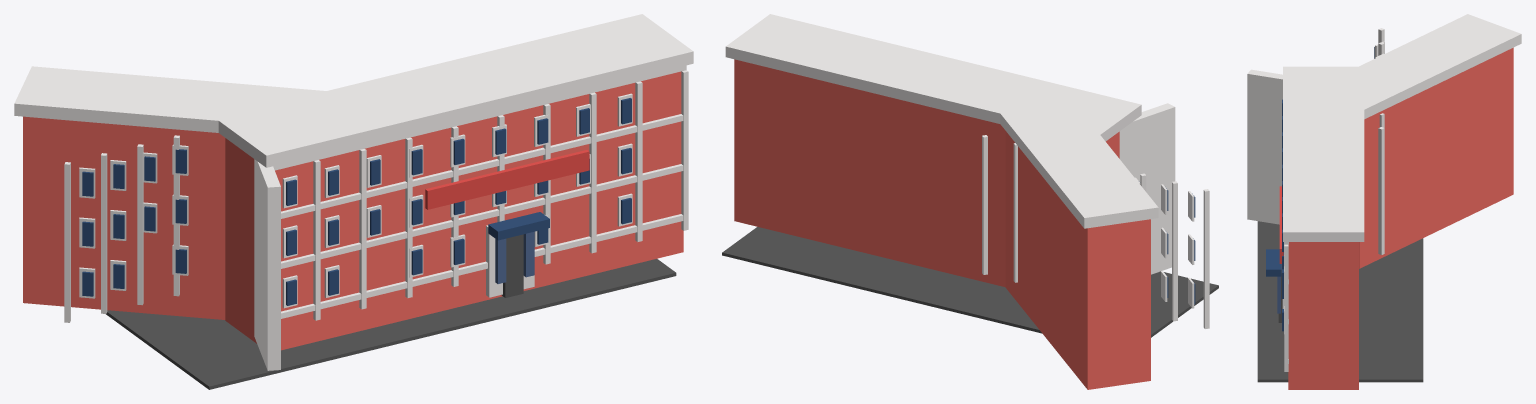
Rendered from kvarteret-building.glb.
3 renders of one model, left to right at view 1: azimuth 30°, elevation 25°; view 2: azimuth 150°, elevation 25°; view 3: azimuth 270°, elevation 25°, orthographic. The views are drawn at different scales.
Parts seen in each view (by area): view 1: front-wing-mass, left-wing-mass, front-wing-roof-cap, ground-shadow, left-wing-roof-cap, corner-white-spine, sign-plate, front-wing-floor-band-2, front-wing-floor-band-1, front-wing-floor-band-0, front-wing-floor-band-3, front-wing-pilaster-8 (+13 smaller); view 2: front-wing-mass, left-wing-mass, front-wing-roof-cap, ground-shadow, left-wing-roof-cap, corner-white-spine, left-wing-pilaster-0, left-wing-pilaster-1, left-wing-pilaster-7, left-wing-pilaster-6; view 3: left-wing-mass, front-wing-roof-cap, ground-shadow, front-wing-mass, left-wing-roof-cap, corner-white-spine, left-wing-pilaster-7, front-wing-pilaster-9, entrance-canopy.
Boxes of the visible parts, x1,y1,x2,y2 form: front-wing-mass: (225, 71, 683, 350); left-wing-mass: (23, 116, 225, 319); front-wing-roof-cap: (215, 14, 693, 167); ground-shadow: (106, 259, 676, 389); left-wing-roof-cap: (14, 66, 332, 132); corner-white-spine: (254, 159, 280, 370); sign-plate: (425, 150, 589, 209); front-wing-floor-band-2: (281, 114, 683, 218); front-wing-floor-band-1: (281, 164, 683, 268); front-wing-floor-band-0: (281, 214, 683, 318); front-wing-floor-band-3: (273, 65, 686, 170); front-wing-pilaster-8: (635, 81, 642, 241); front-wing-mass: (734, 59, 1119, 287); left-wing-mass: (1005, 131, 1150, 389); front-wing-roof-cap: (725, 14, 1141, 141); ground-shadow: (722, 227, 1218, 337); left-wing-roof-cap: (998, 100, 1158, 228); corner-white-spine: (1119, 103, 1175, 274); left-wing-pilaster-0: (1203, 189, 1209, 328); left-wing-pilaster-1: (1172, 181, 1177, 321); left-wing-pilaster-7: (982, 135, 987, 274); left-wing-pilaster-6: (1013, 143, 1017, 282); left-wing-mass: (1359, 47, 1513, 268); front-wing-roof-cap: (1283, 66, 1364, 241); ground-shadow: (1257, 221, 1423, 382); front-wing-mass: (1288, 242, 1358, 389); left-wing-roof-cap: (1307, 14, 1521, 119); corner-white-spine: (1247, 69, 1282, 224); left-wing-pilaster-7: (1378, 127, 1384, 254); front-wing-pilaster-9: (1284, 244, 1288, 371); entrance-canopy: (1266, 249, 1281, 276).
Size of the model in its own units: 10.69 by 3.69 by 5.63.
